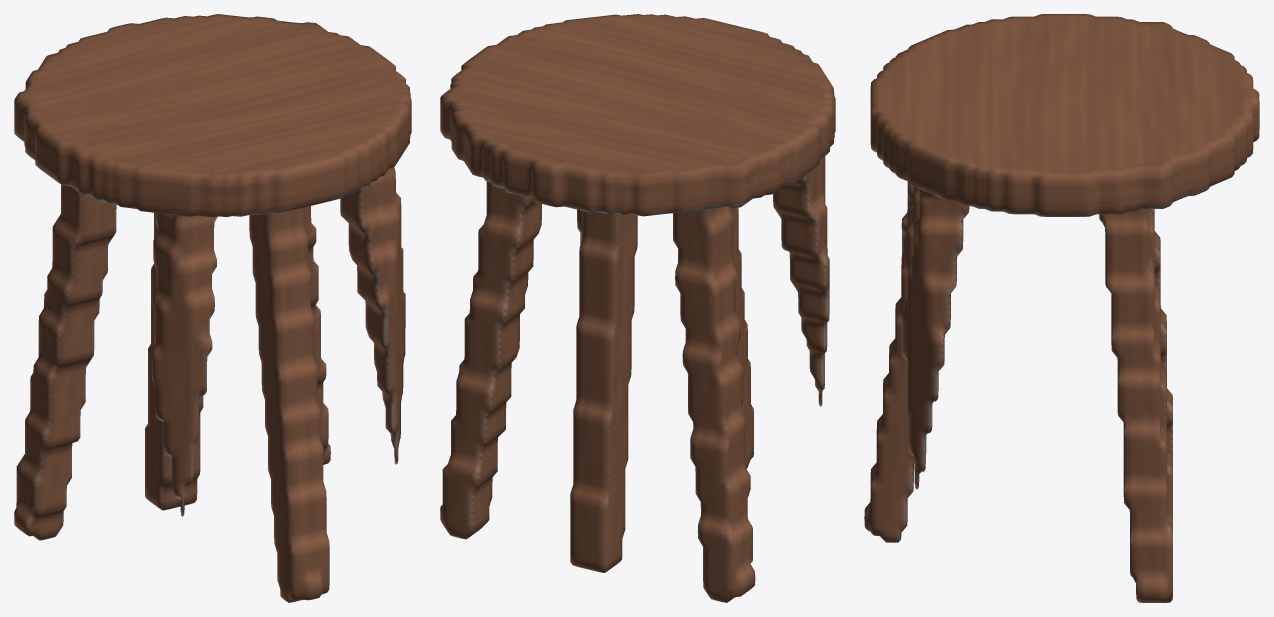
File: stack3.glb
3 views of the same model, side by side, from view 1: azimuth 30°, elevation 25°; view 2: azimuth 150°, elevation 25°; view 3: azimuth 270°, elevation 25° (orthographic).
Size of the model in its own units: 0.364 by 0.4536 by 0.3688.
1 material, 1 textured.
